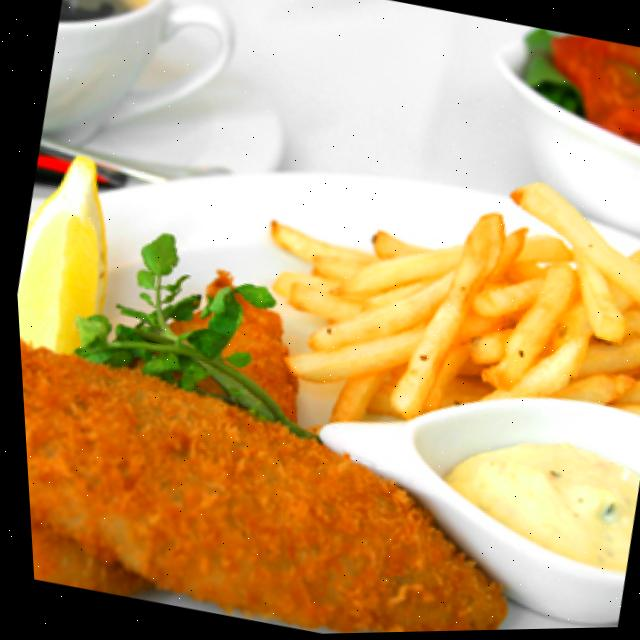炸货点心: (15, 305, 584, 640), (222, 112, 640, 482)
熟制海鲜: (15, 305, 584, 640)
